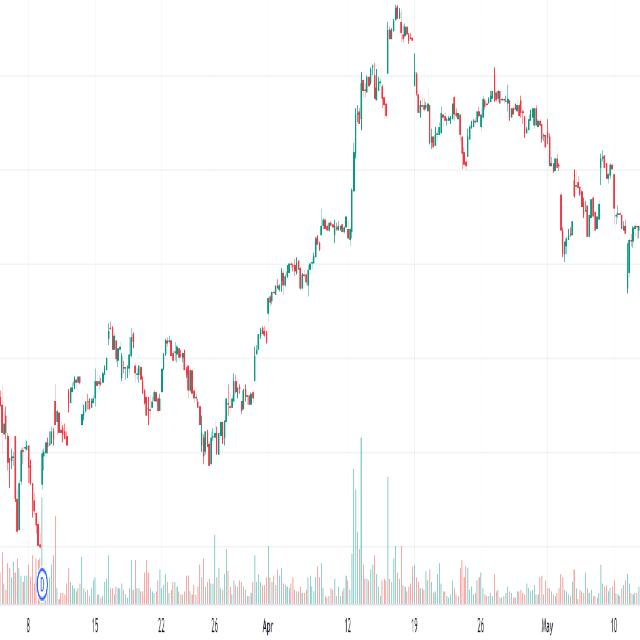Head-Shoulders: (350, 0, 436, 177)
Rising-Wedge: (169, 188, 351, 497)
